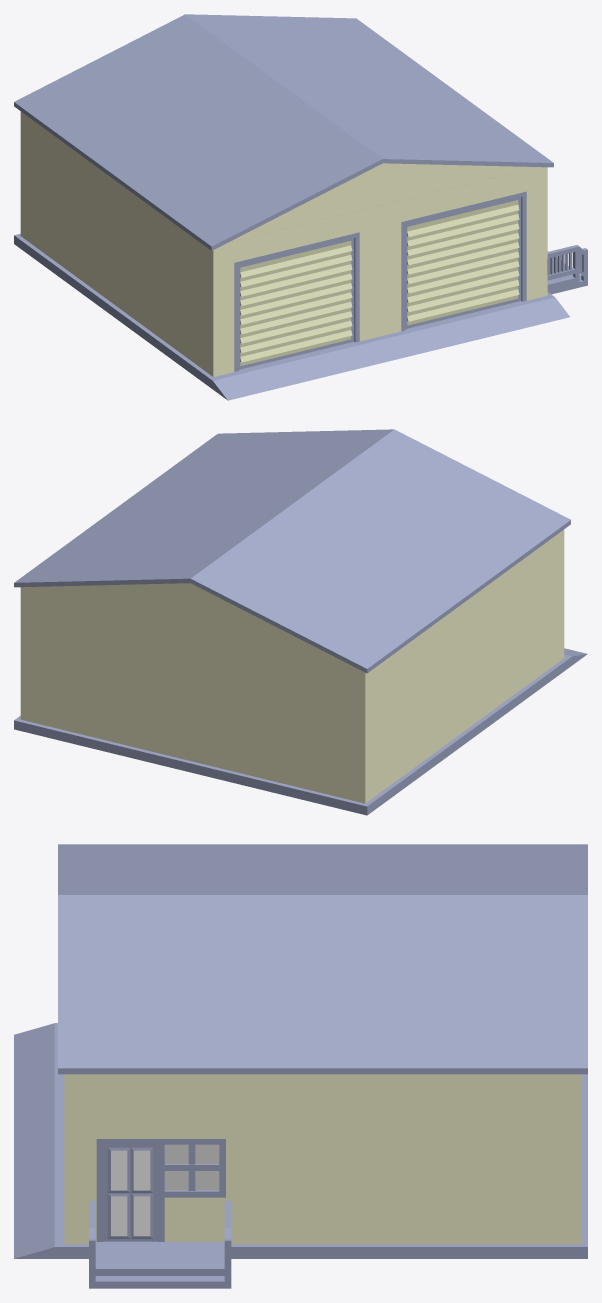
The model's file is Shed #5.fbx.
3 renders of one model, top to bottom at view 1: azimuth 30°, elevation 25°; view 2: azimuth 150°, elevation 25°; view 3: azimuth 270°, elevation 25°, orthographic. The views are drawn at different scales.
Visible parts, largest first — view 1: building_001; view 2: building_001; view 3: building_001.
Boxes of the visible parts, x1,y1,x2,y2 form: building_001: [14, 14, 587, 400]; building_001: [14, 429, 587, 815]; building_001: [14, 844, 587, 1288].
Size of the model in its own units: 929 by 430 by 888.
